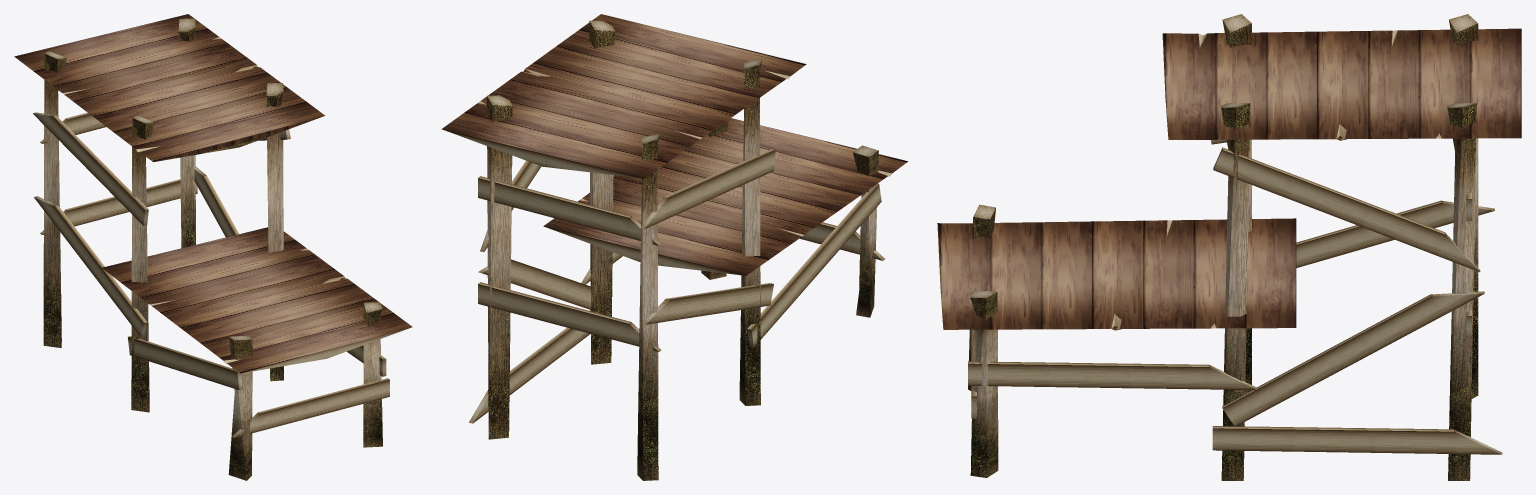
The model's file is p2_platform2_small_step_LOD1.fbx.
The picture shows the model from 3 angles, left to right: view 1: azimuth 30°, elevation 25°; view 2: azimuth 150°, elevation 25°; view 3: azimuth 270°, elevation 25°; orthographic projection. The views are drawn at different scales.
Parts seen in each view (by area): view 1: polymsh; view 2: polymsh; view 3: polymsh.
Part boxes in pixels (x1=…): polymsh: x1=14, y1=14, x2=412, y2=480; polymsh: x1=441, y1=14, x2=907, y2=480; polymsh: x1=937, y1=14, x2=1521, y2=480.
Size of the model in its own units: 100 by 160 by 225.
